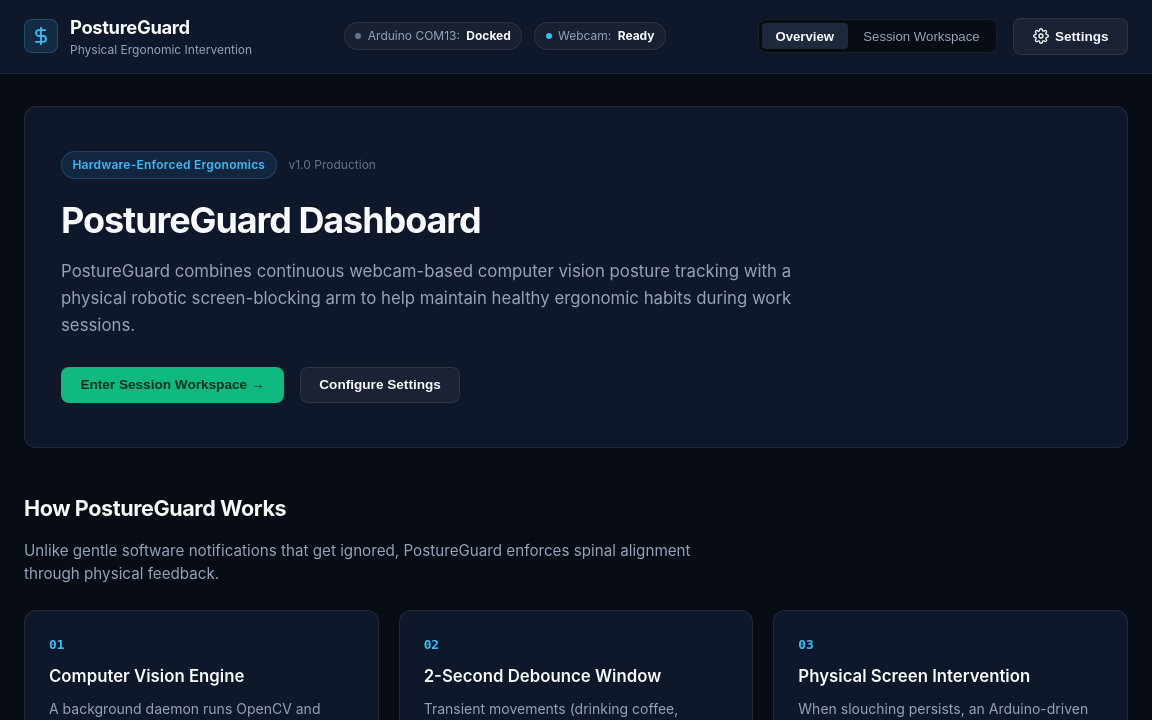
Test: Settings Modal & History › closes the settings modal when clicking the close button
Click the button "Settings" at (1071, 36), box [1013,18,1128,55]
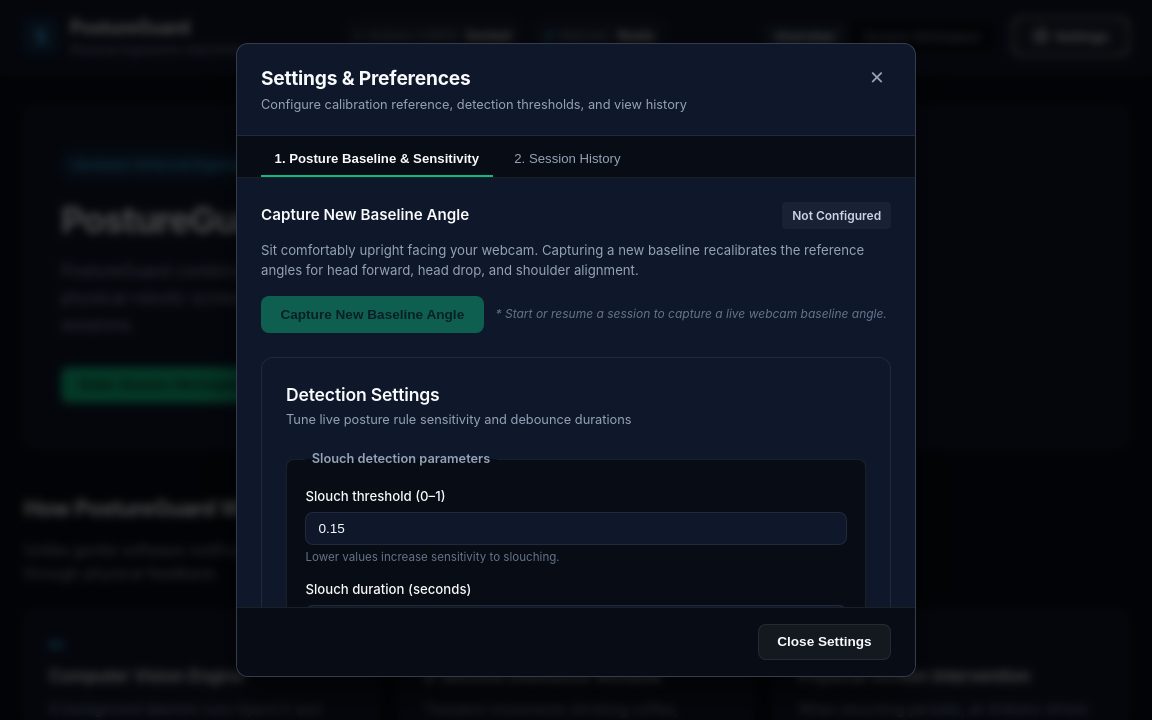
Check: the dialog is shown, box [236,43,916,677]
Click the button named "Close settings" at (877, 78), box [863,64,891,92]
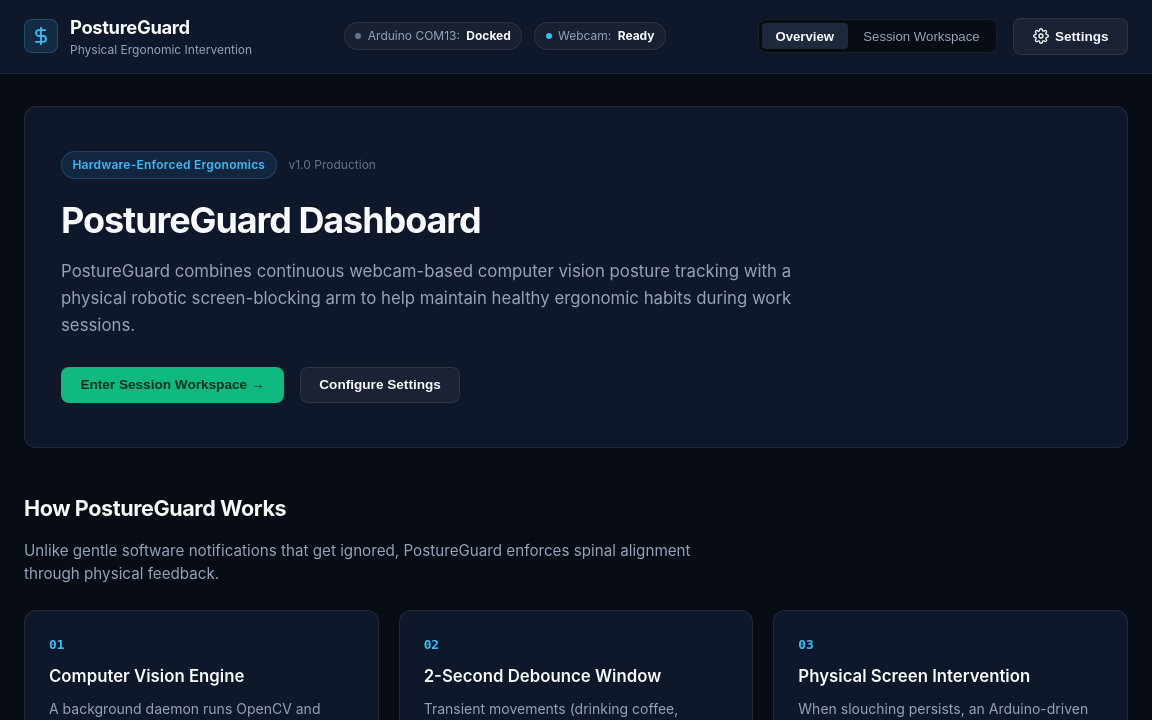
Check: the dialog is gone
